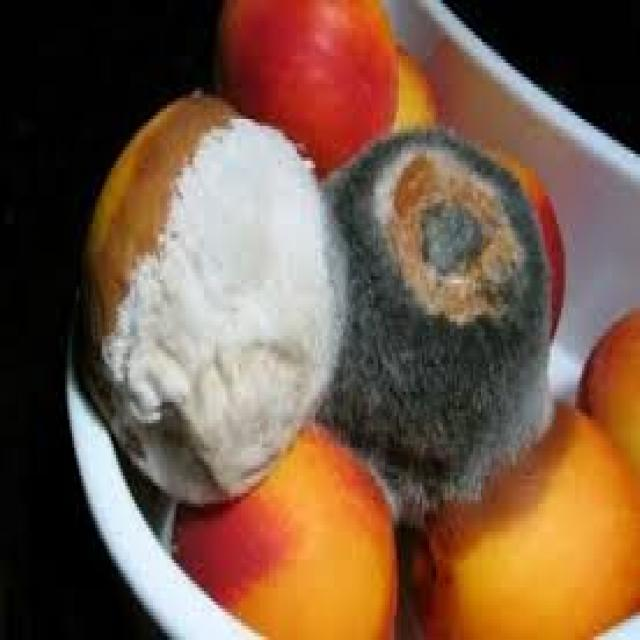organic waste: (70, 88, 350, 500), (311, 119, 547, 528), (403, 398, 638, 636), (169, 416, 394, 637), (209, 0, 399, 175), (468, 136, 562, 336), (575, 304, 638, 476), (385, 42, 438, 126)
